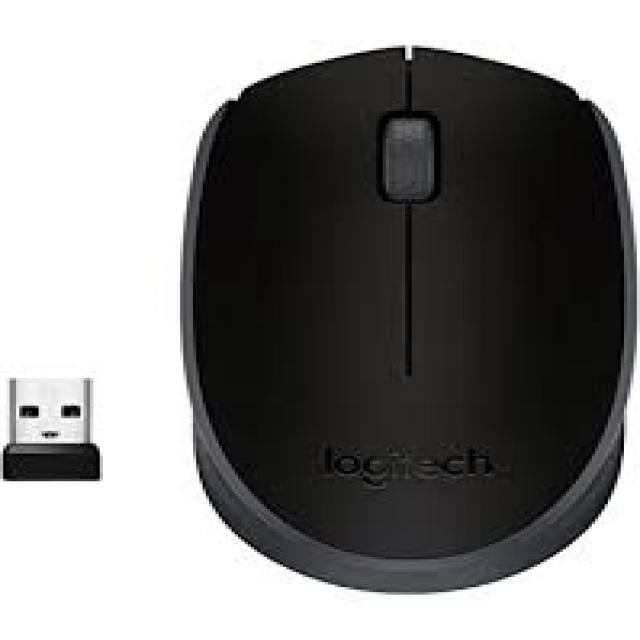others: (154, 20, 630, 602)
